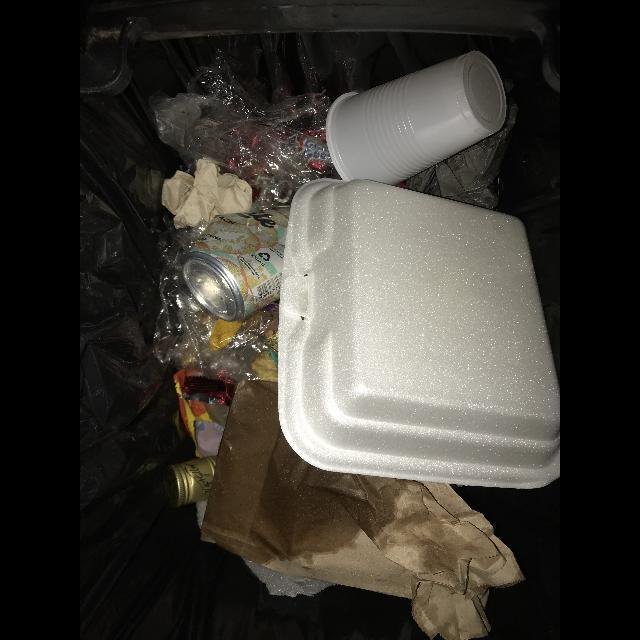metal: (182, 210, 289, 322)
paper: (201, 380, 528, 640), (161, 159, 253, 231)
plastic: (325, 51, 507, 186)
styrofoam: (277, 180, 560, 490)
